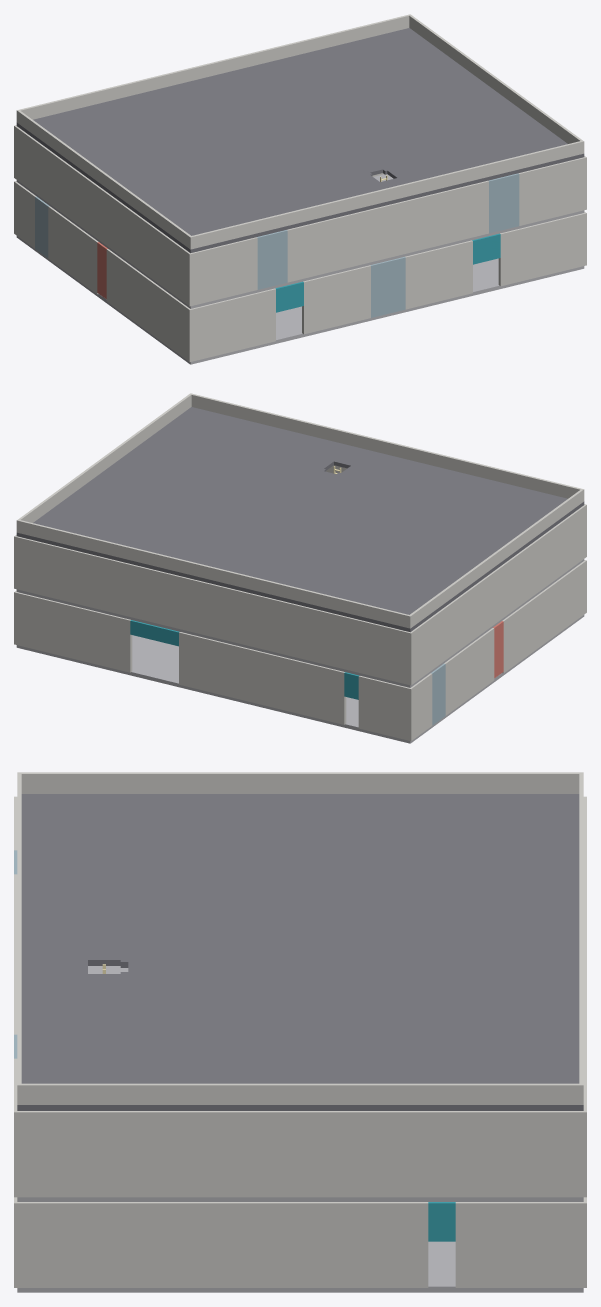
Rendered from landmark_hall_a02.glb.
3 renders of one model, top to bottom at view 1: azimuth 30°, elevation 25°; view 2: azimuth 150°, elevation 25°; view 3: azimuth 270°, elevation 25°, orthographic. The views are drawn at different scales.
Visible parts, largest first — view 1: slab_2_t1_4, slab_2_t2_2, slab_2_t2_5, slab_2_t3_4, slab_2_t3_1, slab_2_t4_1, slab_2_t1_2, slab_2_t1_5, slab_2_t2_3, slab_2_t2_4, slab_2_t3_2, slab_2_t4_3 (+109 smaller); view 2: slab_2_t2_4, slab_2_t3_2, slab_2_t3_5, slab_2_t1_1, slab_2_t2_1, slab_2_t4_3, slab_2_t2_2, slab_2_t3_3, slab_2_t3_4, slab_2_t4_2, slab_2_t4_5, slab_2_t2_3 (+103 smaller); view 3: slab_2_t2_1, slab_2_t2_2, slab_2_t2_5, slab_2_t1_2, slab_2_t3_2, slab_2_t4_2, slab_2_t1_1, slab_2_t1_5, slab_2_t3_1, slab_2_t3_5, slab_2_t4_1, slab_2_t4_5 (+70 smaller).
Boxes of the visible parts, box(x1,y1,x2,y2) form: slab_2_t1_4: box(358, 138, 442, 175); slab_2_t2_2: box(216, 145, 300, 179); slab_2_t2_5: box(385, 104, 469, 138); slab_2_t3_4: box(300, 96, 384, 130); slab_2_t3_1: box(131, 137, 215, 171); slab_2_t4_1: box(102, 116, 186, 150); slab_2_t1_2: box(245, 166, 329, 200); slab_2_t1_5: box(414, 125, 498, 159); slab_2_t2_3: box(272, 131, 356, 165); slab_2_t2_4: box(329, 117, 413, 152); slab_2_t3_2: box(187, 123, 271, 158); slab_2_t4_3: box(215, 88, 299, 123); slab_2_t2_4: box(216, 475, 300, 509); slab_2_t3_2: box(300, 524, 384, 558); slab_2_t3_5: box(131, 483, 215, 517); slab_2_t1_1: box(414, 495, 498, 529); slab_2_t2_1: box(385, 516, 469, 550); slab_2_t4_3: box(214, 531, 299, 565); slab_2_t2_2: box(329, 502, 413, 537); slab_2_t3_3: box(244, 510, 328, 544); slab_2_t3_4: box(187, 496, 271, 531); slab_2_t4_2: box(271, 545, 355, 579); slab_2_t4_5: box(102, 504, 186, 538); slab_2_t2_3: box(273, 489, 356, 523); slab_2_t2_1: box(206, 836, 300, 881); slab_2_t2_2: box(206, 881, 300, 926); slab_2_t2_5: box(206, 1015, 300, 1060); slab_2_t1_2: box(111, 881, 205, 926); slab_2_t3_2: box(300, 881, 394, 926); slab_2_t4_2: box(395, 881, 489, 926); slab_2_t1_1: box(111, 836, 205, 881); slab_2_t1_5: box(111, 1015, 205, 1060); slab_2_t3_1: box(300, 836, 394, 881); slab_2_t3_5: box(300, 1015, 394, 1060); slab_2_t4_1: box(395, 836, 489, 881); slab_2_t4_5: box(395, 1015, 489, 1060).
Size of what is drawn, in the model's own units: 34.3 by 10.5 by 26.3.
